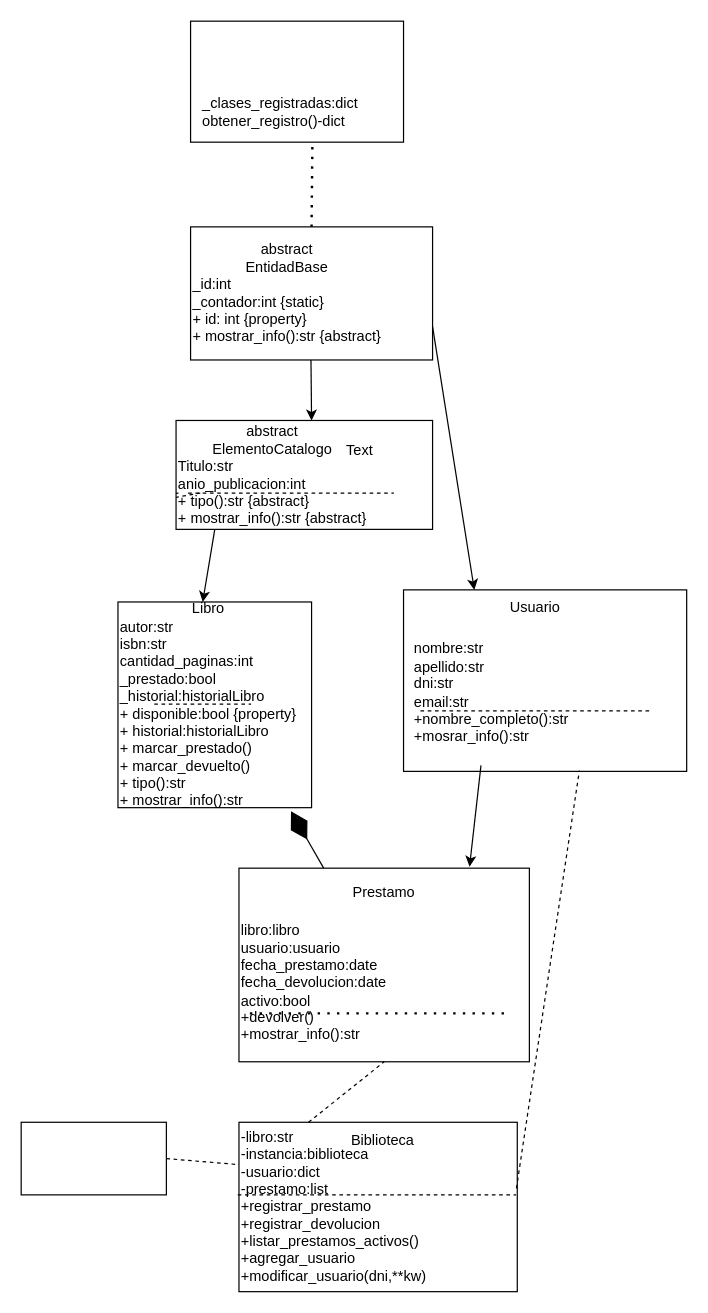
Image size: 708x1313. Some labels were removed from this diagram. Each missing label, with the box of its shape:
Longin *kwargs: (20, 1121, 166, 1195)
metaclass RegistroMeta: (189, 20, 404, 142)
